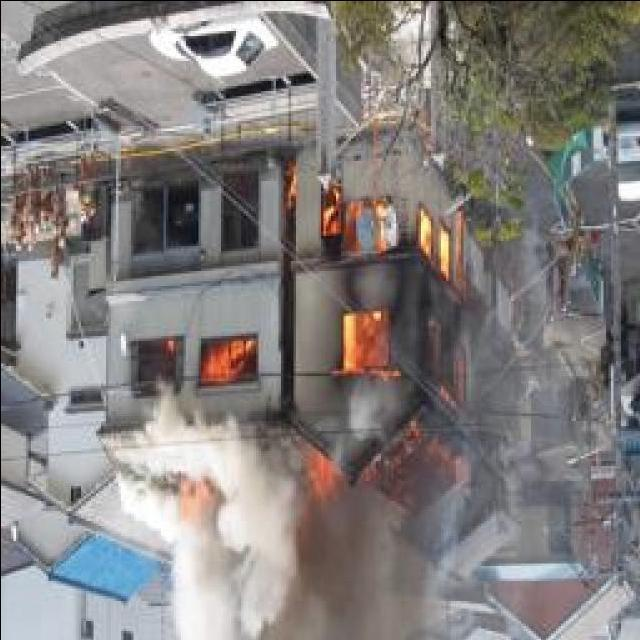Fire: (321, 171, 460, 495), (158, 334, 254, 381), (168, 470, 225, 530)
